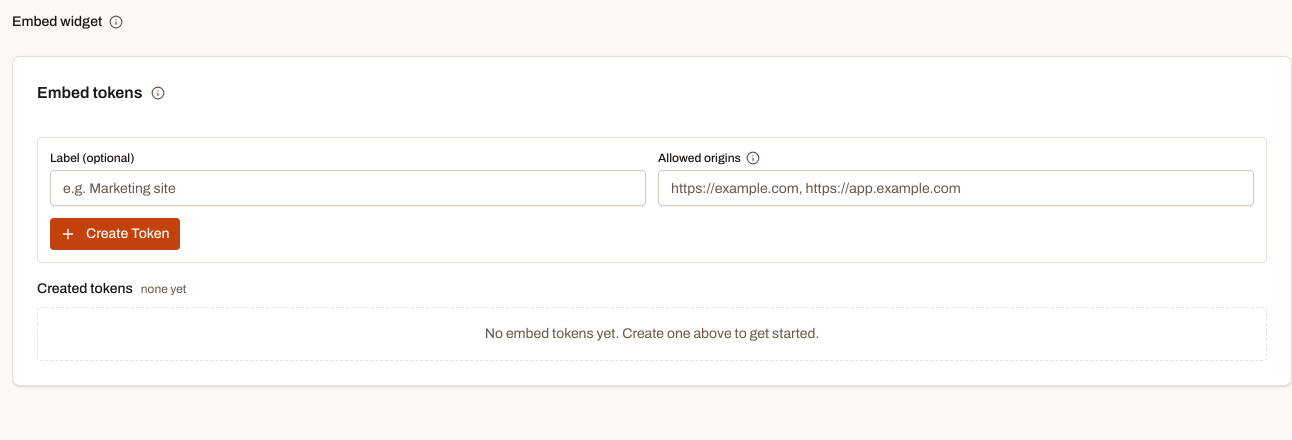
Test: EmbedConfigPanel › shows error when create fails
Click the button "Create Token" at (115, 234), box [50,218,180,250]
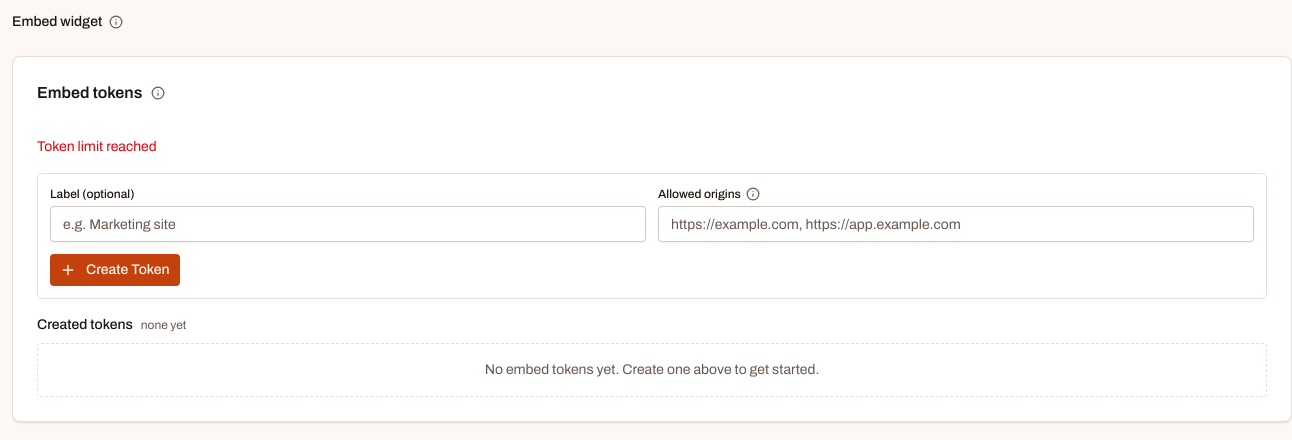
Check: the text "Token limit reached" is shown, box [37,139,157,154]
